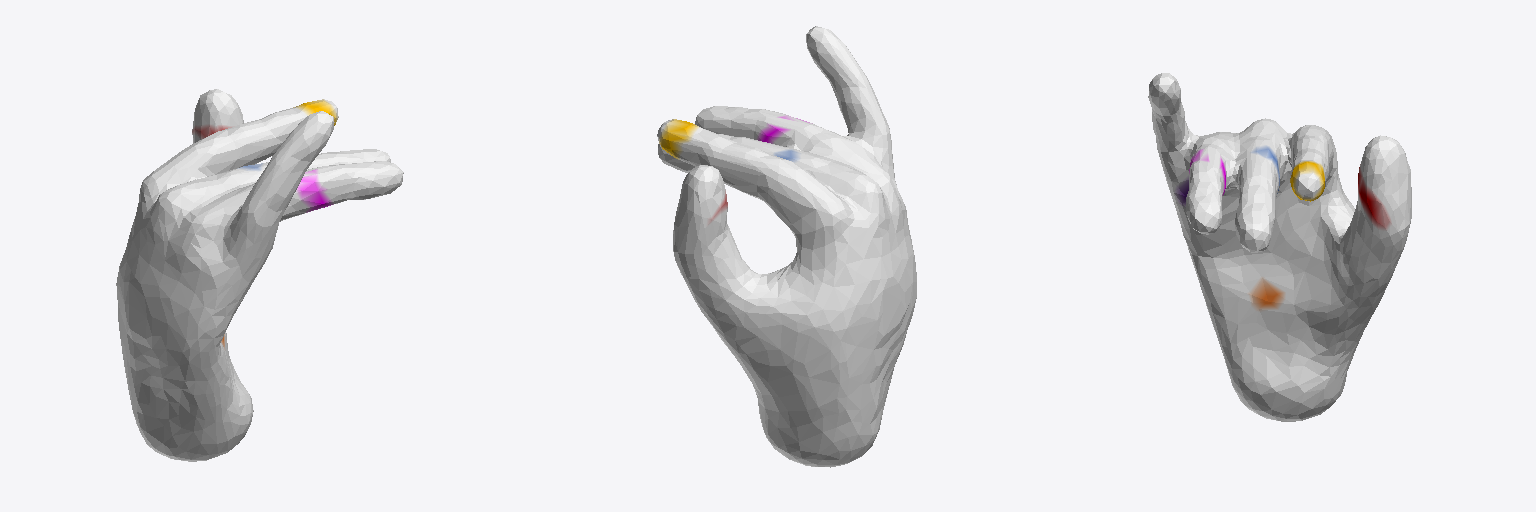
3 views of the same model, side by side, from view 1: azimuth 30°, elevation 25°; view 2: azimuth 150°, elevation 25°; view 3: azimuth 270°, elevation 25° (orthographic).
Size of the model in its own units: 1.24 by 1.8 by 1.16.
Materials: 1 (1 with a texture image).